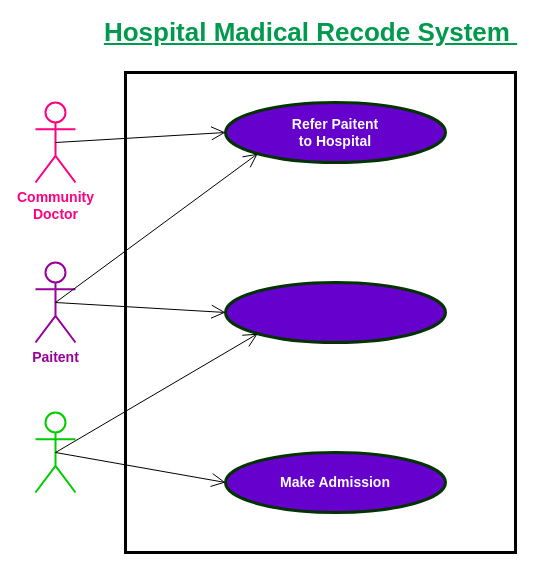
The diagram is 543 pixels wide and 571 high, and some of its shapes have lost their labels. The centre of each missing label's shape, as x and y in pixels:
Hospital Doctor: point 55,452
Make Paitent Diagram: point 335,312
